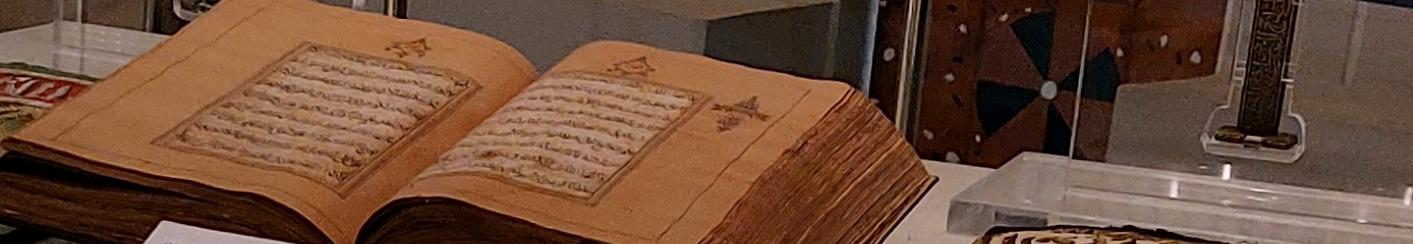The_HolyQuran: (0, 0, 925, 244)
